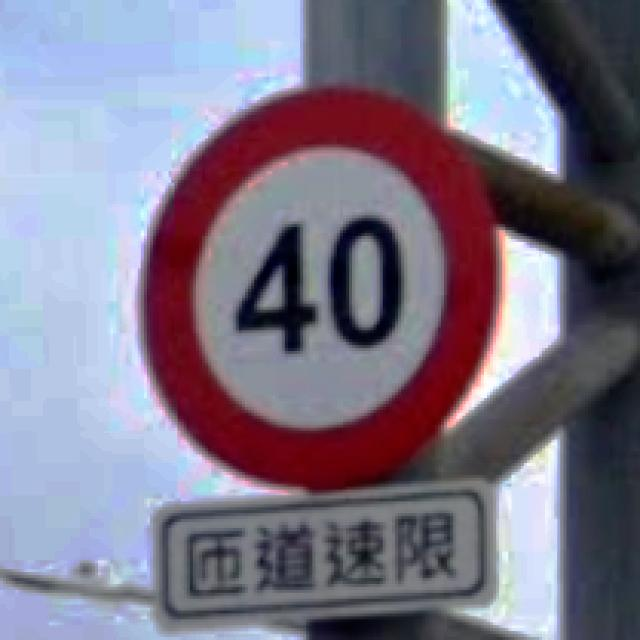max40: (138, 80, 502, 490)
